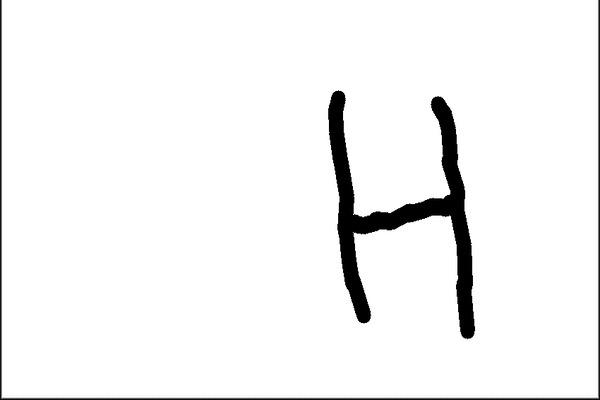H: (324, 82, 481, 345)
